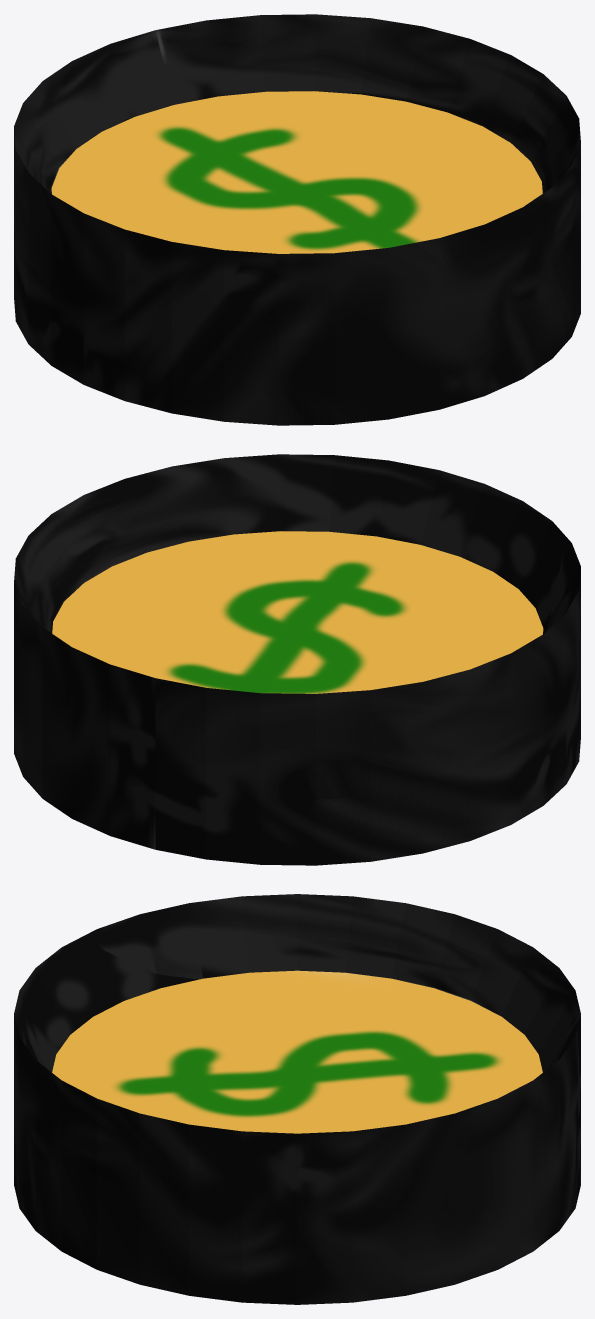
The model's file is Low_Poly_Wheel.fbx.
3 views of the same model, one above another, from view 1: azimuth 30°, elevation 25°; view 2: azimuth 150°, elevation 25°; view 3: azimuth 270°, elevation 25° (orthographic).
Visible parts, largest first — view 1: Cylinder; view 2: Cylinder; view 3: Cylinder.
Boxes of the visible parts, x1,y1,x2,y2 form: Cylinder: (14, 14, 580, 425); Cylinder: (14, 454, 580, 865); Cylinder: (14, 894, 580, 1304).
Bounding box in the file's own units: 200 × 66.67 × 200.
1 material, 1 textured.
